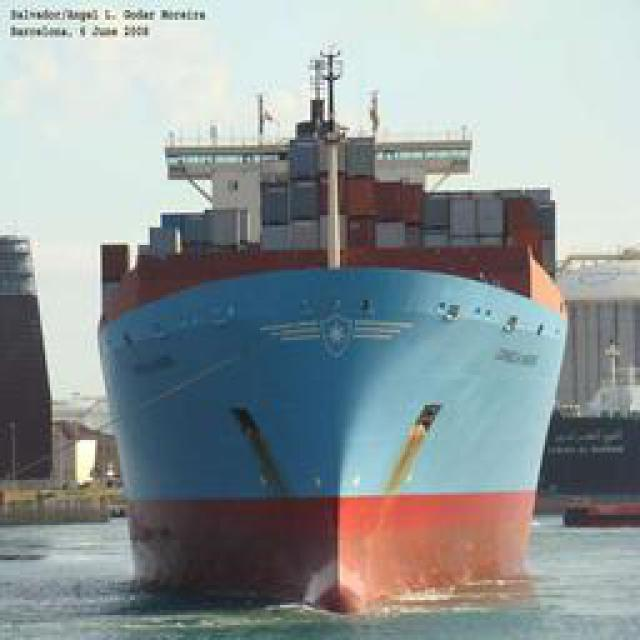Ship: (96, 176, 579, 606)
